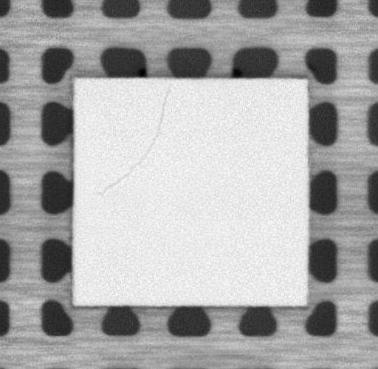DIE_CRACK: (97, 82, 171, 198)
